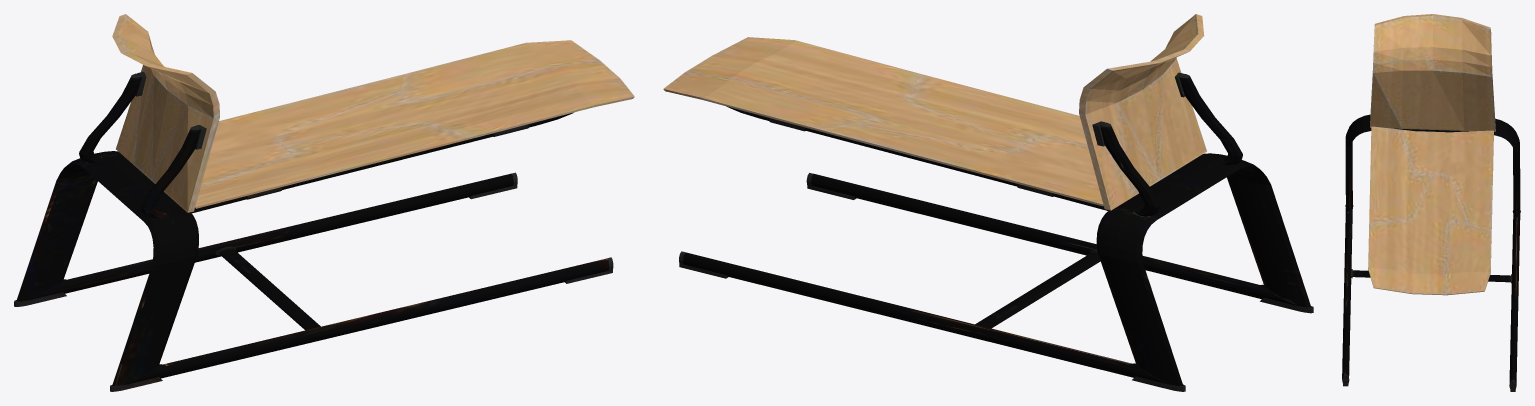
The model's file is chair_0.glb.
The picture shows the model from 3 angles, left to right: view 1: azimuth 30°, elevation 25°; view 2: azimuth 150°, elevation 25°; view 3: azimuth 270°, elevation 25°; orthographic projection. The views are drawn at different scales.
Visible parts, largest first — view 1: chair_0; view 2: chair_0; view 3: chair_0.
Part boxes in pixels (x1=…): chair_0: x1=14, y1=14, x2=634, y2=391; chair_0: x1=663, y1=14, x2=1313, y2=391; chair_0: x1=1342, y1=14, x2=1520, y2=391.
Size of the model in its own units: 3.9 by 1.9 by 1.44.
1 material, 1 textured.
